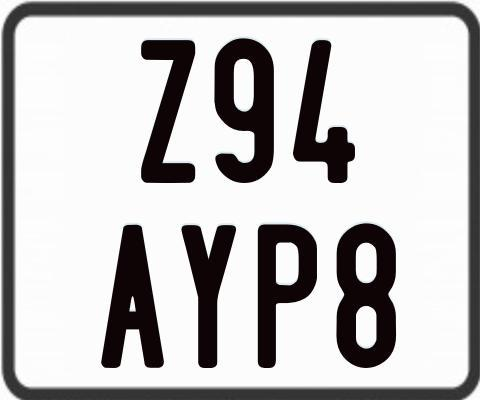4: (292, 37, 357, 182)
8: (333, 223, 394, 372)
9: (212, 38, 273, 184)
A: (99, 223, 167, 370)
P: (255, 222, 317, 371)
Y: (179, 225, 234, 368)
Z: (140, 40, 197, 189)
